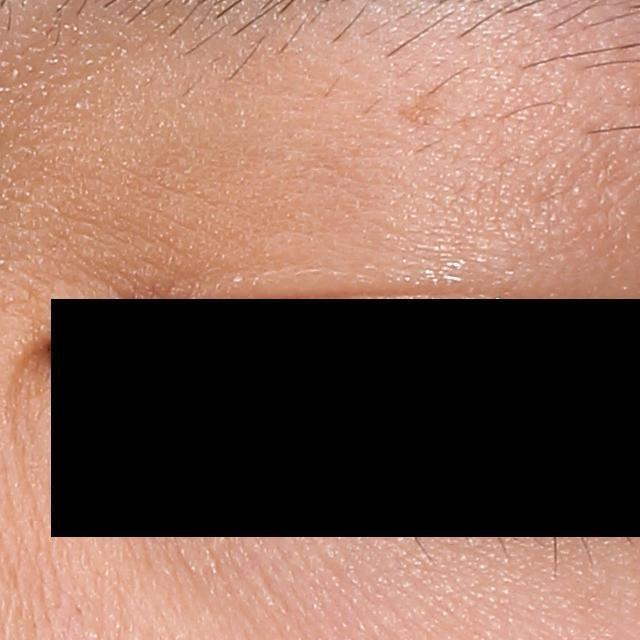melasma: (394, 87, 454, 128)
